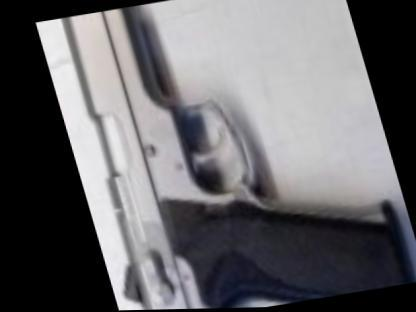pistol: (37, 0, 408, 310)
